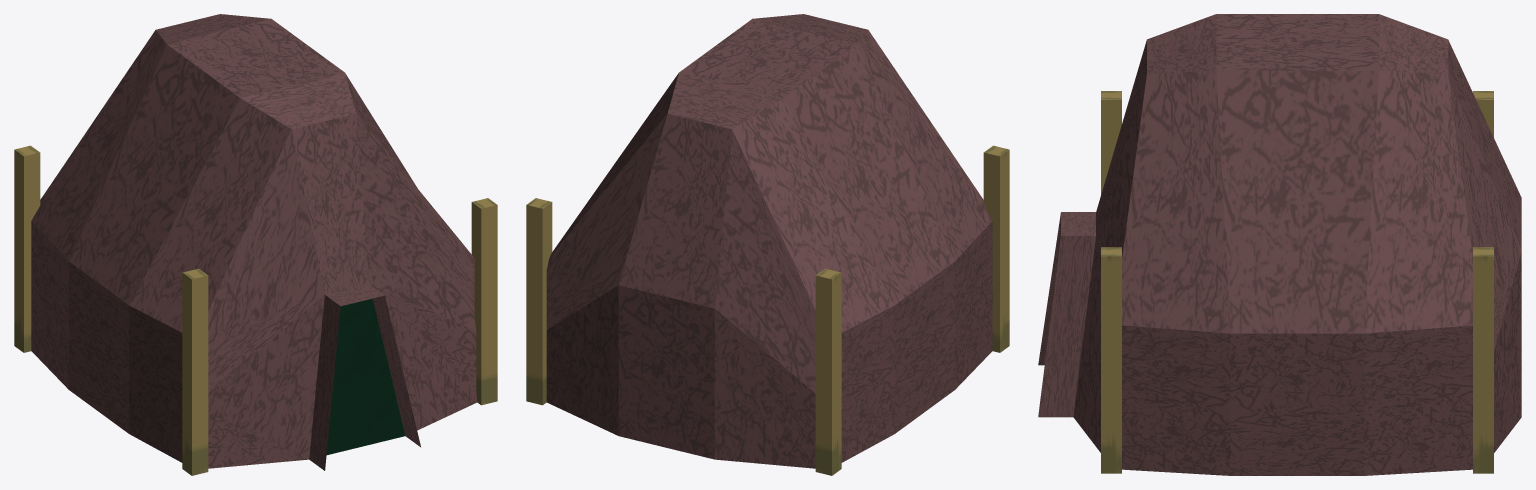
The model's file is Tent.fbx.
The picture shows the model from 3 angles, left to right: view 1: azimuth 30°, elevation 25°; view 2: azimuth 150°, elevation 25°; view 3: azimuth 270°, elevation 25°; orthographic projection. The views are drawn at different scales.
Visible parts, largest first — view 1: Cube.015, Cube.018; view 2: Cube.015, Cube.018; view 3: Cube.015, Cube.018.
Boxes of the visible parts, x1,y1,x2,y2 form: Cube.015: (31,14,477,470); Cube.018: (14,145,497,475); Cube.015: (546,14,992,468); Cube.018: (526,145,1009,475); Cube.015: (1038,14,1521,475); Cube.018: (1101,91,1493,473).
Bounding box in the file's own units: 4.6 × 4.41 × 5.54.
